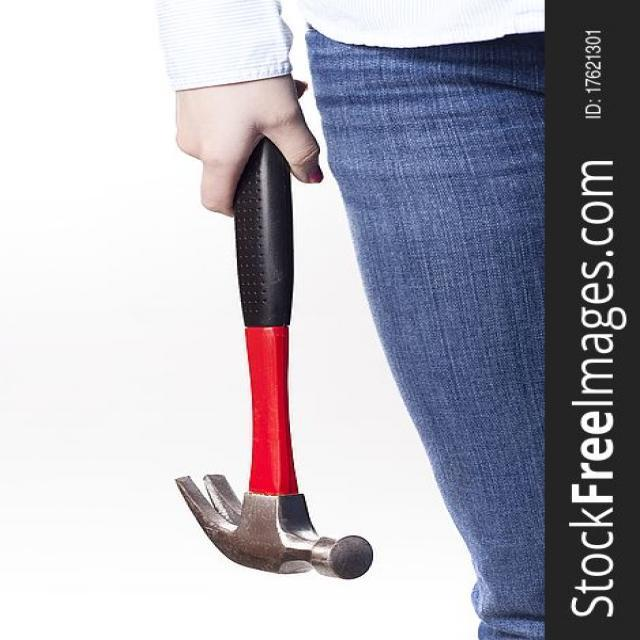hammer: (171, 71, 380, 586)
